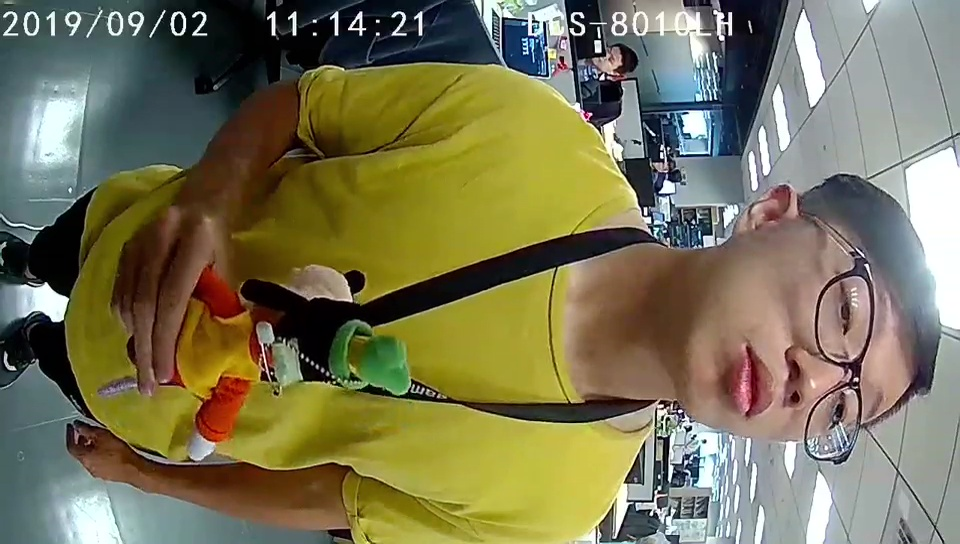goofy: (186, 283, 409, 463)
